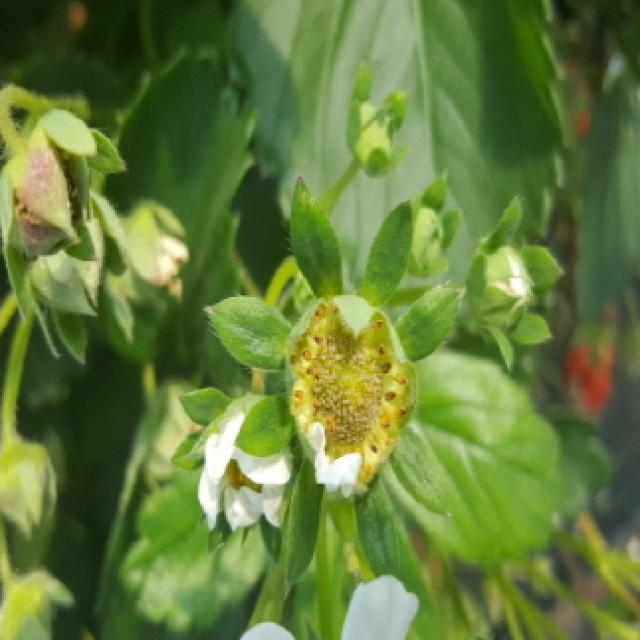Blossom Blight: (284, 298, 418, 485)
